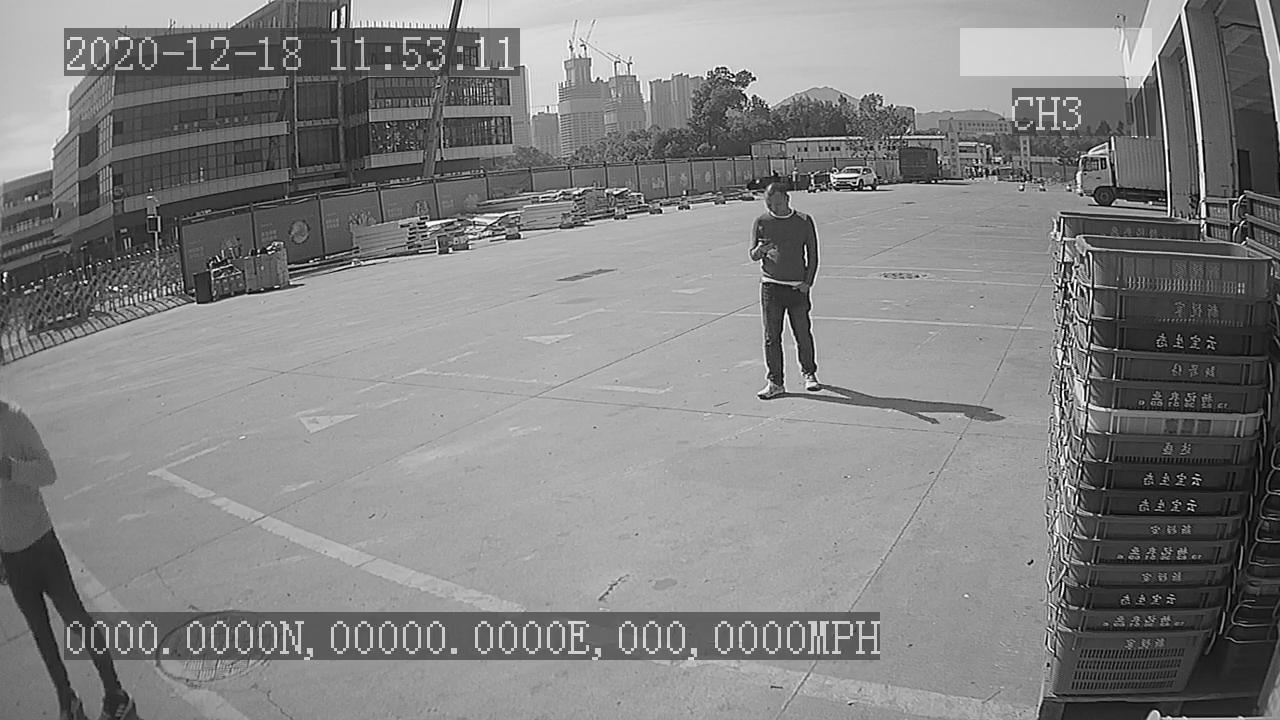person: (738, 177, 829, 404)
